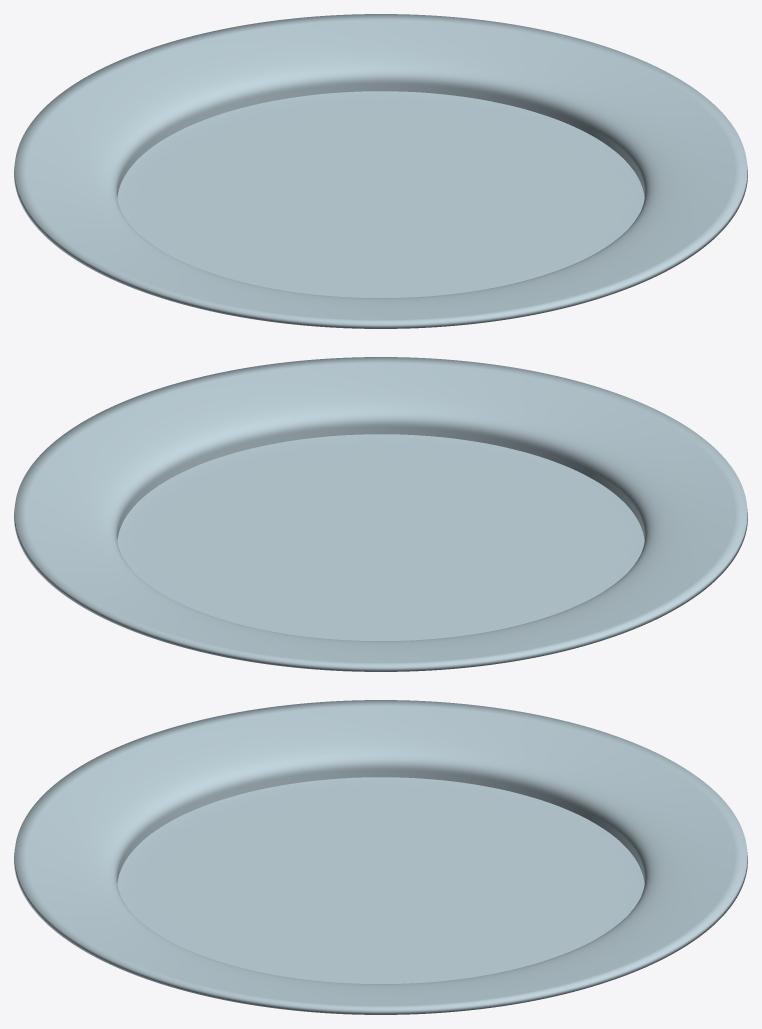
Rendered from plate.fbx.
The picture shows the model from 3 angles, top to bottom: view 1: azimuth 30°, elevation 25°; view 2: azimuth 150°, elevation 25°; view 3: azimuth 270°, elevation 25°; orthographic projection.
Visible parts, largest first — view 1: Circle; view 2: Circle; view 3: Circle.
Part boxes in pixels (<box>): Circle: <box>14,14,747,328</box>; Circle: <box>14,357,747,671</box>; Circle: <box>14,700,747,1014</box>.
Size of the model in its own units: 391 by 23.17 by 391.
